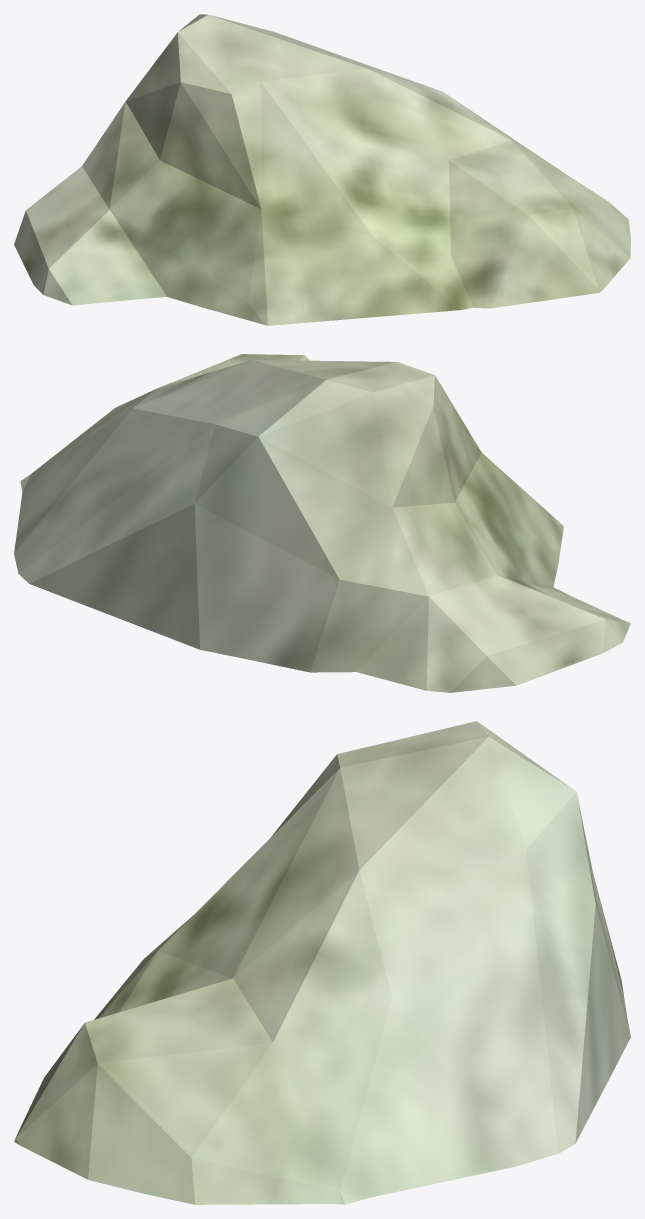
3 views of the same model, one above another, from view 1: azimuth 30°, elevation 25°; view 2: azimuth 150°, elevation 25°; view 3: azimuth 270°, elevation 25° (orthographic). The views are drawn at different scales.
Bounding box in the file's own units: 1.62 × 0.5996 × 1.26.
Materials: 1 (1 with a texture image).
